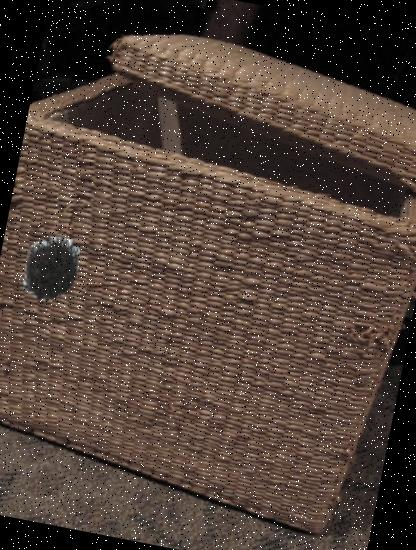Rambutan: (13, 230, 89, 306)
